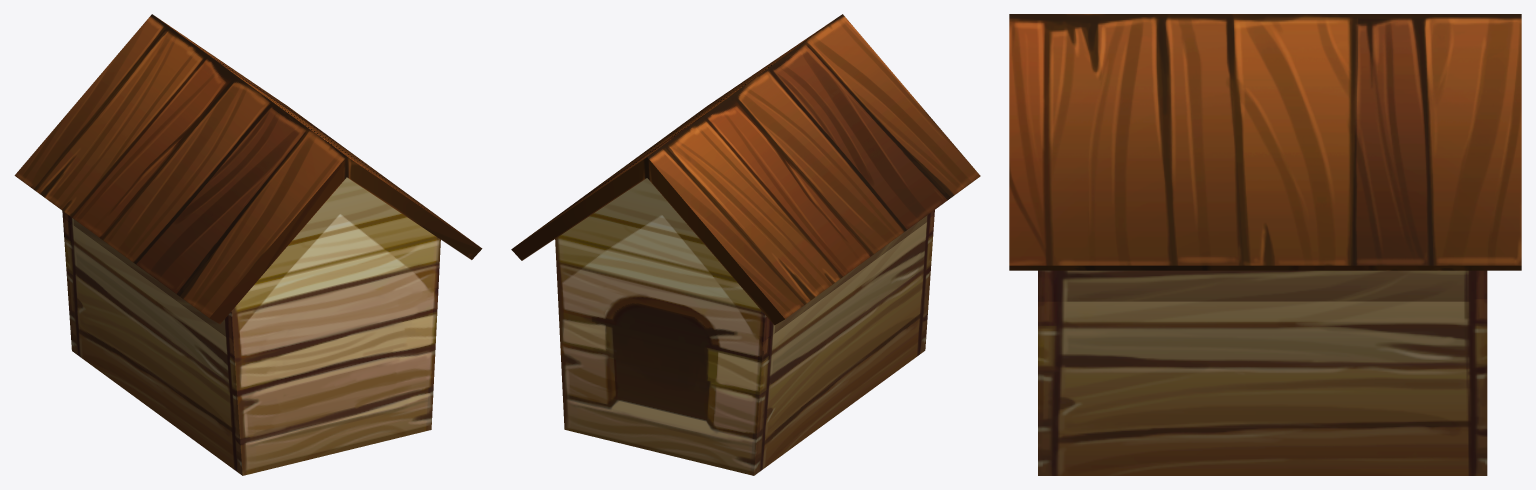
Rendered from Budka.fbx.
The picture shows the model from 3 angles, left to right: view 1: azimuth 30°, elevation 25°; view 2: azimuth 150°, elevation 25°; view 3: azimuth 270°, elevation 25°; orthographic projection. The views are drawn at different scales.
Visible parts, largest first — view 1: Budka; view 2: Budka; view 3: Budka.
Boxes of the visible parts, box(x1,y1,x2,y2) form: Budka: box(14, 14, 482, 475); Budka: box(511, 14, 980, 475); Budka: box(1009, 14, 1521, 475).
Bounding box in the file's own units: 6.54 × 6.97 × 8.08.
